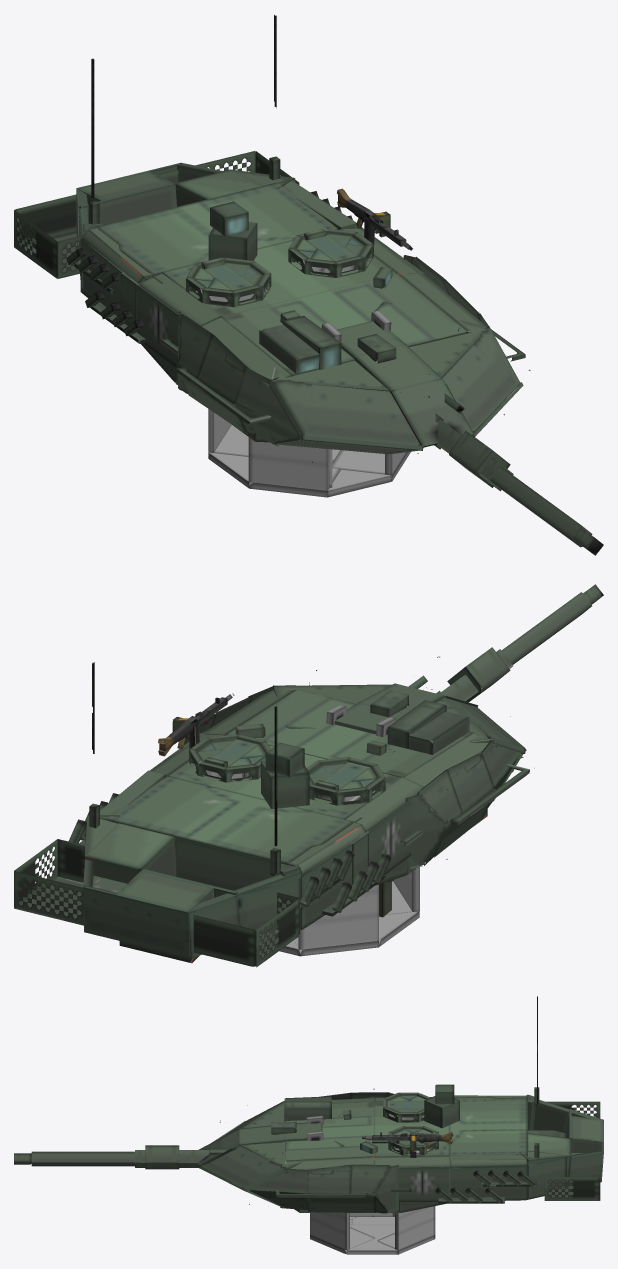
Rendered from leo2a5_turret.obj.
The picture shows the model from 3 angles, top to bottom: view 1: azimuth 30°, elevation 25°; view 2: azimuth 150°, elevation 25°; view 3: azimuth 270°, elevation 25°; orthographic projection. The views are drawn at different scales.
Visible parts, largest first — view 1: turret, gun; view 2: turret, gun; view 3: turret, gun.
Part boxes in pixels (left/top/right/bottom): turret: left=14, top=15, right=530, bottom=497; gun: left=390, top=378, right=603, bottom=555; turret: left=14, top=656, right=534, bottom=967; gun: left=317, top=584, right=603, bottom=801; turret: left=199, top=996, right=603, bottom=1254; gun: left=14, top=1129, right=409, bottom=1169.
Size of the model in its own units: 3.82 by 4.25 by 11.09.
